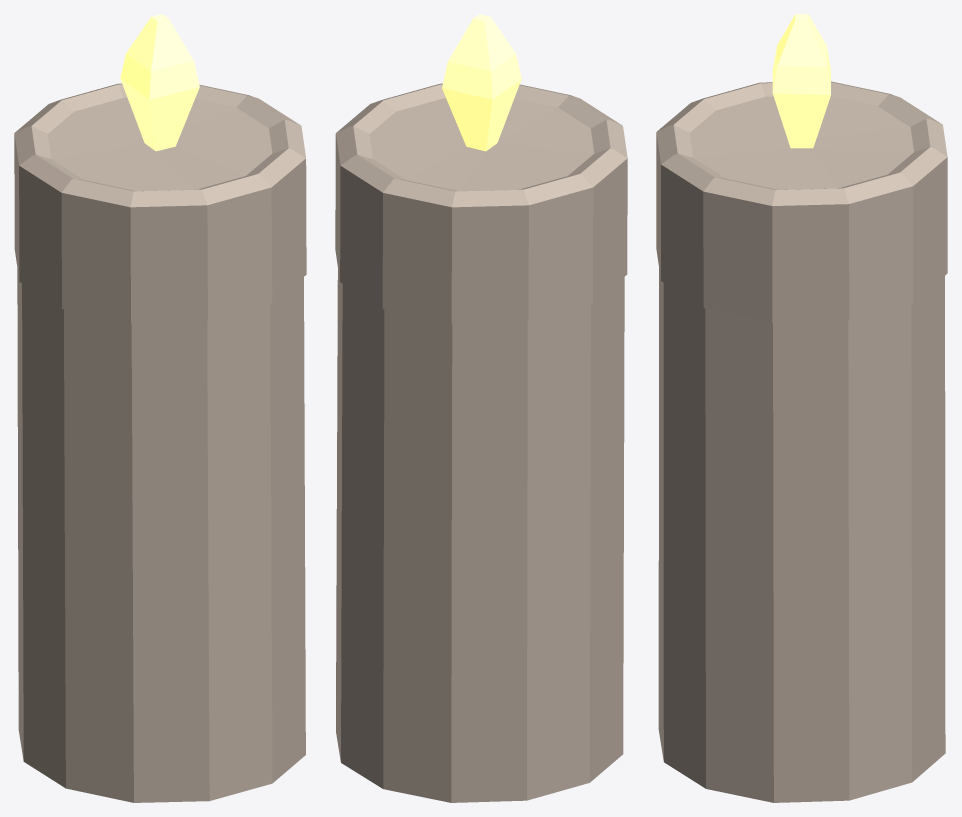
Rendered from prop_Candle.fbx.
3 views of the same model, side by side, from view 1: azimuth 30°, elevation 25°; view 2: azimuth 150°, elevation 25°; view 3: azimuth 270°, elevation 25° (orthographic).
Parts seen in each view (by area): view 1: Candle; view 2: Candle; view 3: Candle.
Part boxes in pixels (bbox=[...]): Candle: bbox=[14, 14, 306, 802]; Candle: bbox=[335, 14, 627, 802]; Candle: bbox=[656, 14, 947, 802].
Size of the model in its own units: 9.85 by 27 by 9.84.
